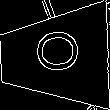O_W: (28, 35, 81, 79)
